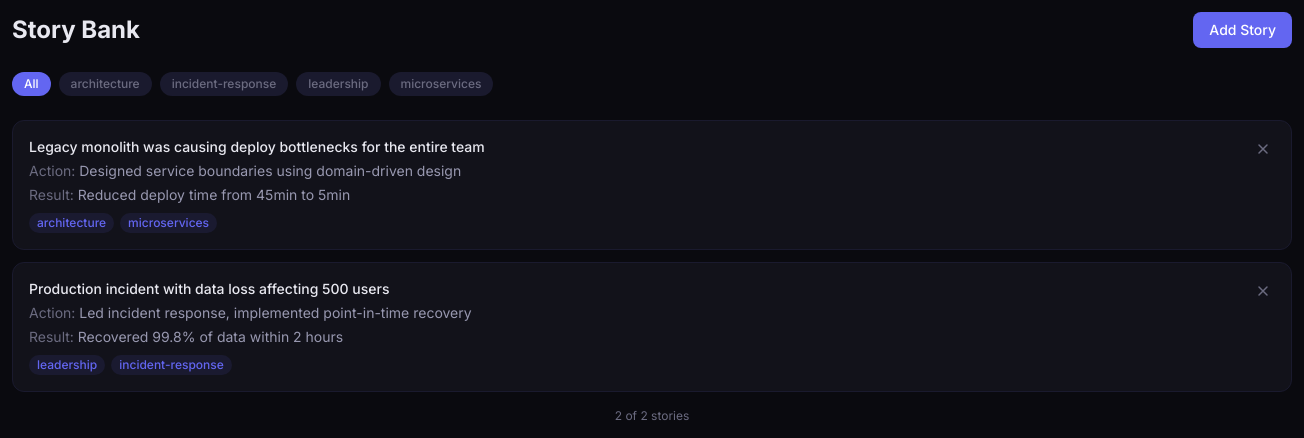
Test case: StoryBank page › filters stories by tag
Expected: the text "Legacy monolith" is shown, [29, 138, 485, 155]
// First is the filter button, second is on the card badge
Click the button "leadership" at [338, 84], box [296, 72, 380, 96]
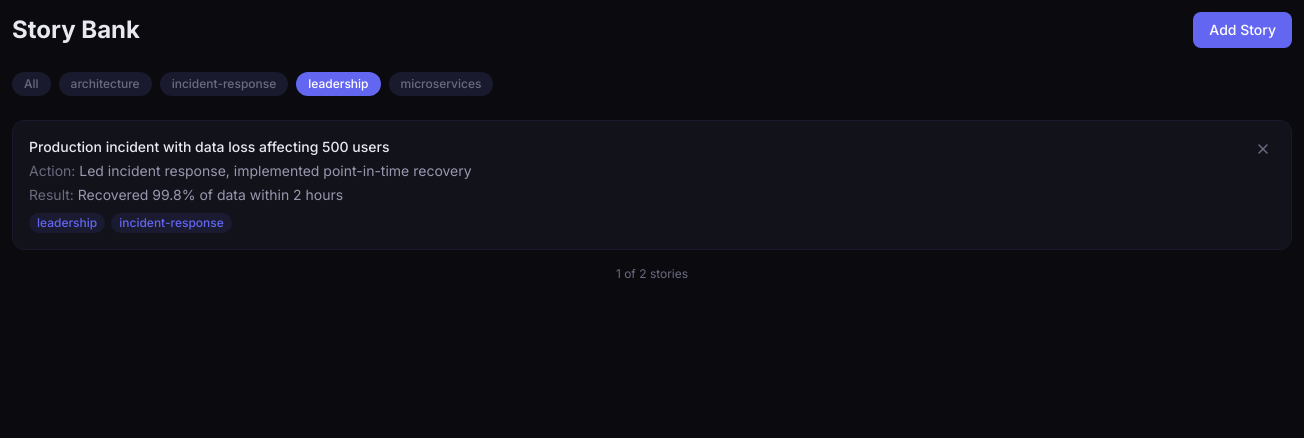
Expected: the text "Production incident with data loss affecting 500 users" is shown, [29, 138, 389, 155]
Result: the text "Legacy monolith" is gone
